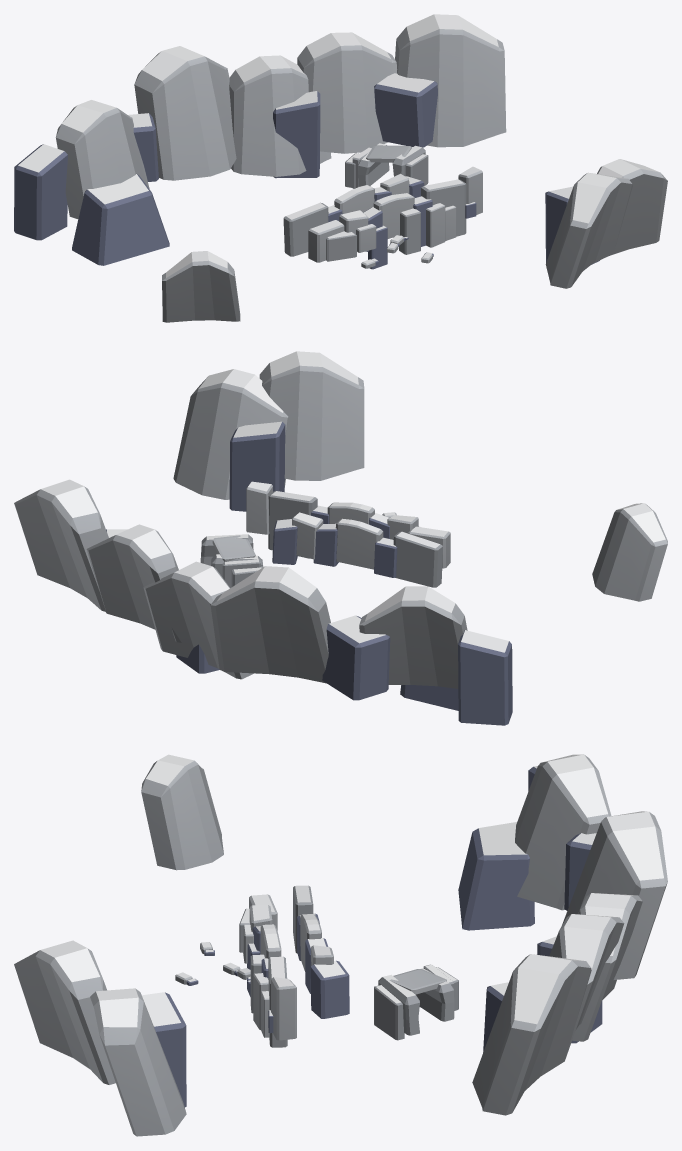
The model's file is Tundra_rocks.fbx.
3 renders of one model, top to bottom at view 1: azimuth 30°, elevation 25°; view 2: azimuth 150°, elevation 25°; view 3: azimuth 270°, elevation 25°, orthographic. The views are drawn at different scales.
Visible parts, largest first — view 1: Cube.042, Cube.035, Cube.043, Cube.037, Cube.036, Cube.040, Cube.047, Cube.038, Cube.041, Cube.044, Cube.046, Cube.045 (+18 smaller); view 2: Cube.035, Cube.047, Cube.046, Cube.036, Cube.042, Cube.043, Cube.037, Cube.038, Cube.041, Cube.039, Cube.048, Cube.033 (+12 smaller); view 3: Cube.042, Cube.036, Cube.046, Cube.047, Cube.035, Cube.038, Cube.040, Cube.043, Cube.037, Cube.048, Cube.034, Cube.012 (+10 smaller).
Part boxes in pixels (x1=…): Cube.042: x1=395, y1=14, x2=506, y2=147; Cube.035: x1=134, y1=46, x2=236, y2=180; Cube.043: x1=297, y1=32, x2=397, y2=153; Cube.037: x1=229, y1=55, x2=331, y2=176; Cube.036: x1=55, y1=100, x2=149, y2=218; Cube.040: x1=72, y1=174, x2=169, y2=265; Cube.047: x1=545, y1=172, x2=632, y2=288; Cube.038: x1=162, y1=251, x2=240, y2=322; Cube.041: x1=14, y1=144, x2=67, y2=240; Cube.044: x1=374, y1=73, x2=437, y2=147; Cube.046: x1=593, y1=159, x2=667, y2=263; Cube.045: x1=273, y1=91, x2=320, y2=178; Cube.035: x1=210, y1=566, x2=330, y2=683; Cube.047: x1=259, y1=351, x2=364, y2=480; Cube.046: x1=173, y1=369, x2=288, y2=499; Cube.036: x1=359, y1=586, x2=467, y2=688; Cube.042: x1=14, y1=479, x2=108, y2=611; Cube.043: x1=86, y1=524, x2=181, y2=642; Cube.037: x1=143, y1=561, x2=253, y2=679; Cube.038: x1=592, y1=503, x2=667, y2=601; Cube.041: x1=458, y1=630, x2=512, y2=725; Cube.039: x1=322, y1=615, x2=390, y2=700; Cube.048: x1=229, y1=421, x2=285, y2=511; Cube.033: x1=393, y1=531, x2=443, y2=587; Cube.042: x1=472, y1=954, x2=591, y2=1115; Cube.036: x1=515, y1=754, x2=611, y2=910; Cube.046: x1=90, y1=988, x2=186, y2=1136; Cube.047: x1=14, y1=940, x2=115, y2=1084; Cube.035: x1=562, y1=811, x2=667, y2=979; Cube.038: x1=141, y1=754, x2=223, y2=870; Cube.040: x1=458, y1=822, x2=534, y2=930; Cube.043: x1=549, y1=914, x2=624, y2=1058; Cube.037: x1=572, y1=893, x2=642, y2=1041; Cube.048: x1=142, y1=992, x2=186, y2=1107; Cube.034: x1=310, y1=960, x2=349, y2=1018; Cube.012: x1=271, y1=977, x2=296, y2=1040.
Size of the model in its own units: 4594 by 1172 by 4315.
